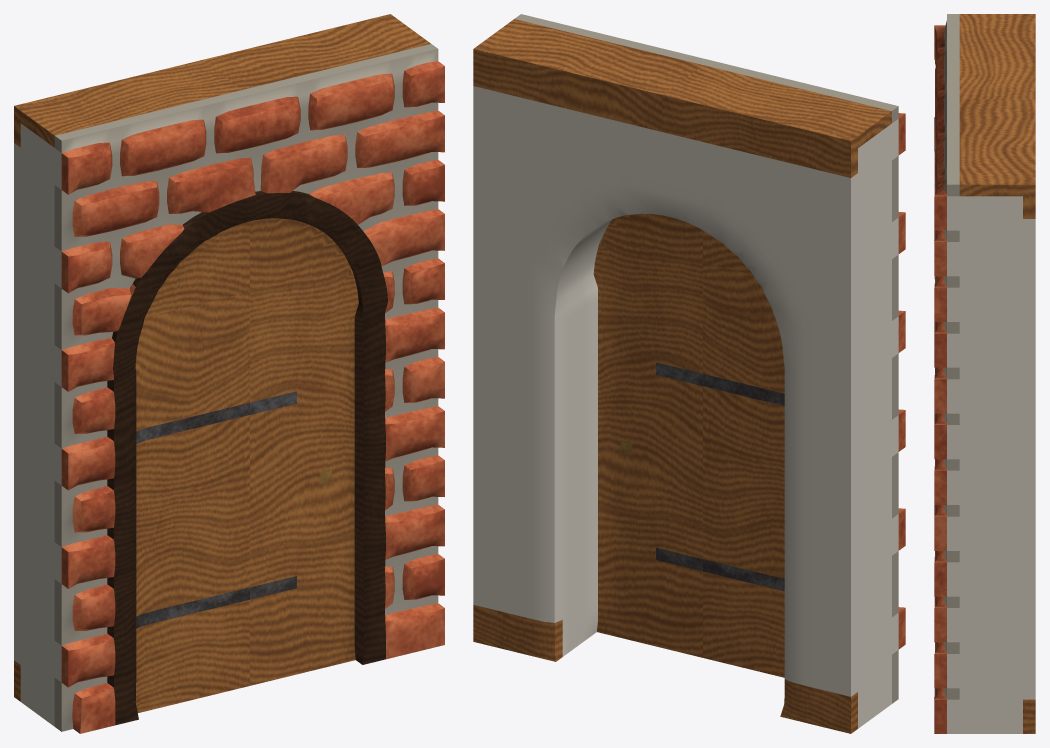
Rendered from wall_out_brick_door.glb.
3 views of the same model, side by side, from view 1: azimuth 30°, elevation 25°; view 2: azimuth 150°, elevation 25°; view 3: azimuth 270°, elevation 25° (orthographic). The views are drawn at different scales.
Parts seen in each view (by area): view 1: town_wall_out_brick_door; view 2: town_wall_out_brick_door; view 3: town_wall_out_brick_door.
Part boxes in pixels (x1,y1,x2,y2): town_wall_out_brick_door: [14, 14, 444, 733]; town_wall_out_brick_door: [473, 14, 905, 733]; town_wall_out_brick_door: [934, 14, 1035, 733].
Size of the model in its own units: 1 by 1.5 by 0.25.
Materials: 3 (1 with a texture image).
